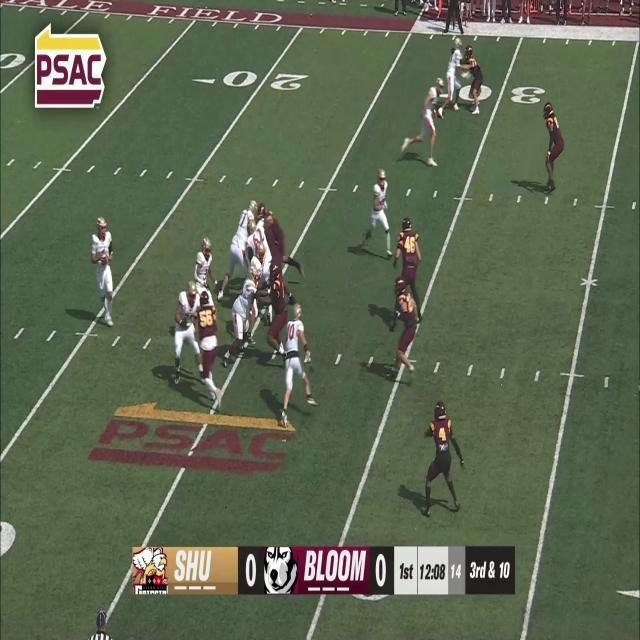football: (100, 253, 108, 266)
